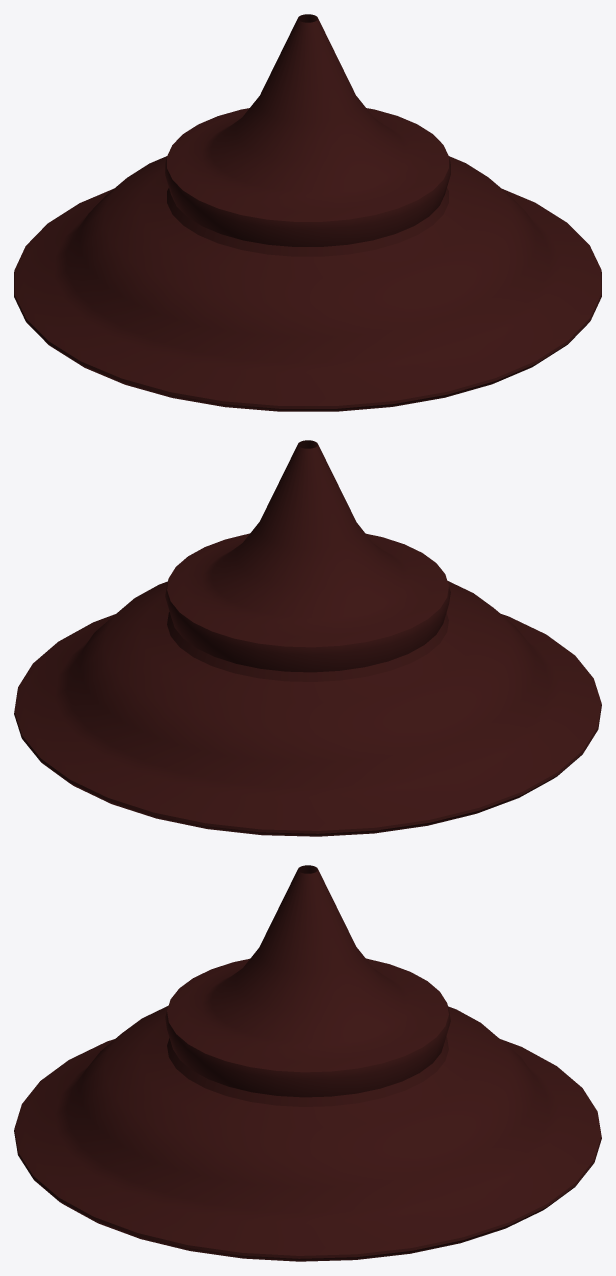
File: TowerTip_Pointed_01_Prototyp_Mesh.fbx
3 views of the same model, one above another, from view 1: azimuth 30°, elevation 25°; view 2: azimuth 150°, elevation 25°; view 3: azimuth 270°, elevation 25° (orthographic).
Visible parts, largest first — view 1: Cylinder.023; view 2: Cylinder.023; view 3: Cylinder.023.
Boxes of the visible parts, x1=… form: Cylinder.023: x1=14, y1=14, x2=601, y2=411; Cylinder.023: x1=14, y1=440, x2=601, y2=836; Cylinder.023: x1=14, y1=865, x2=601, y2=1261.
Bounding box in the file's own units: 664 × 338 × 664.
